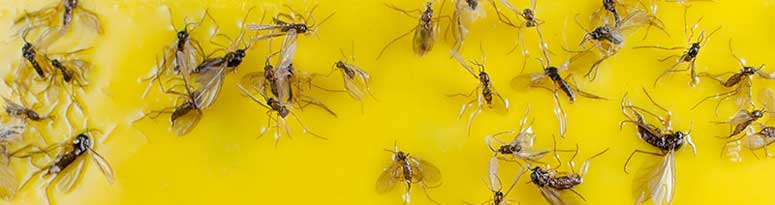Fruit fly: (310, 47, 382, 109), (370, 133, 428, 205), (461, 52, 495, 139), (400, 1, 438, 74), (255, 86, 294, 139)
